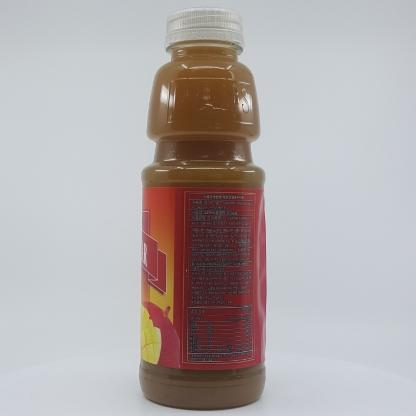-----449ML: (139, 7, 267, 410)
